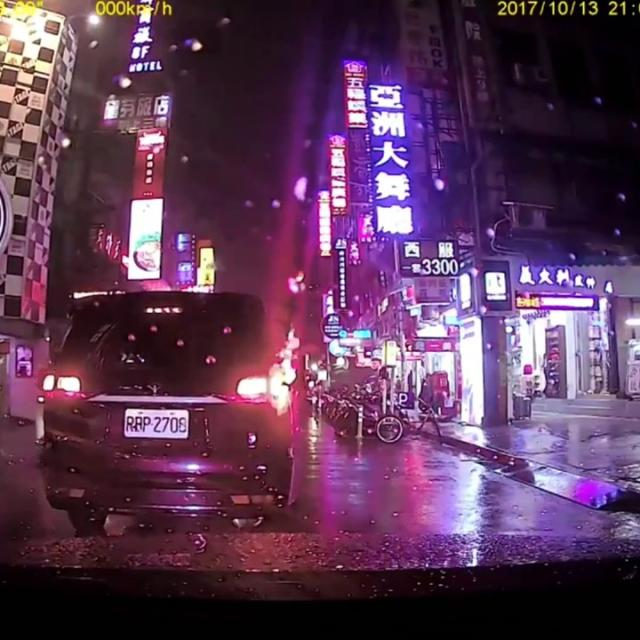Car: (40, 288, 295, 527)
